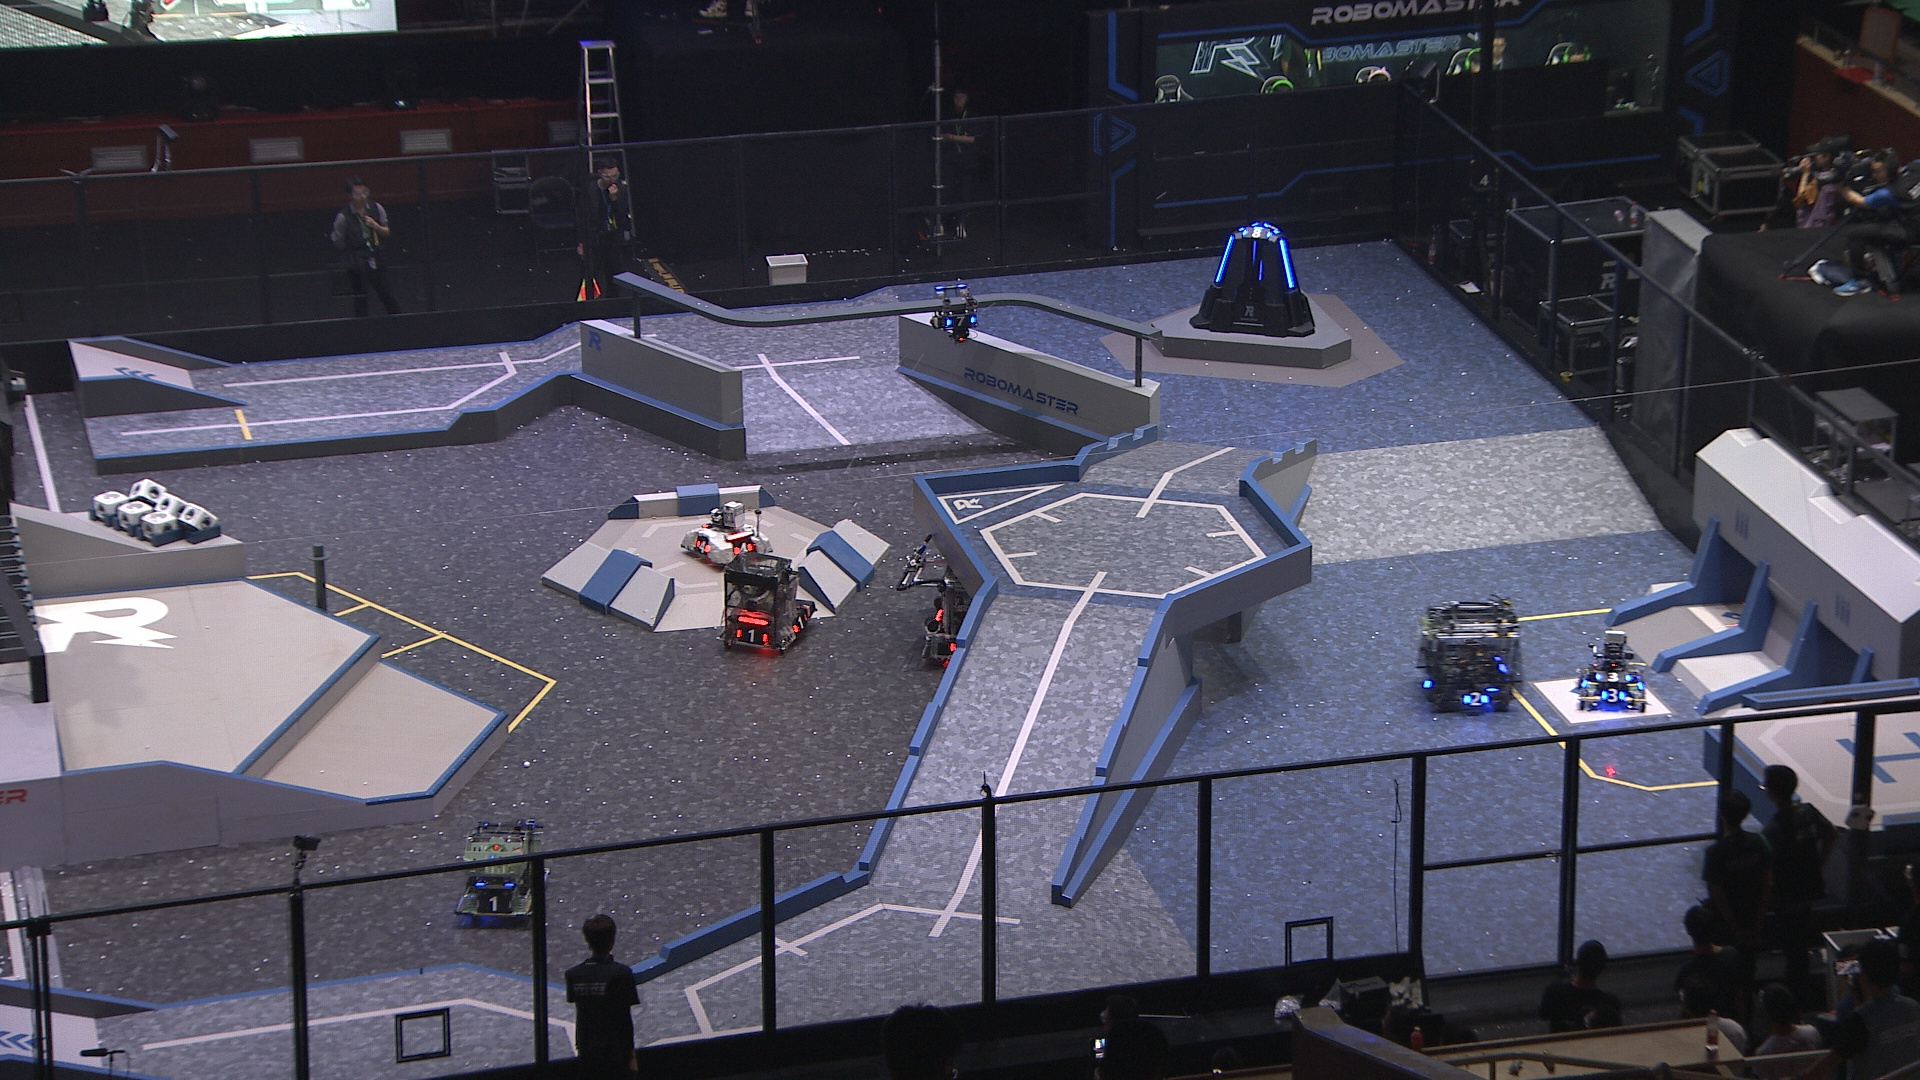armor: (1212, 235, 1236, 285), (476, 891, 512, 916), (1280, 237, 1295, 289), (733, 626, 770, 646), (1462, 688, 1493, 708), (1592, 670, 1633, 684), (944, 314, 978, 328), (1600, 684, 1629, 702), (1240, 225, 1275, 239), (789, 612, 808, 636), (732, 541, 756, 556), (1249, 240, 1261, 270), (694, 541, 712, 553)
base: (1188, 223, 1315, 338)
car: (1415, 595, 1522, 713), (920, 556, 1027, 671), (716, 551, 818, 651), (452, 820, 553, 922), (678, 498, 773, 570), (1575, 632, 1647, 716)
watcher: (927, 281, 978, 345)
